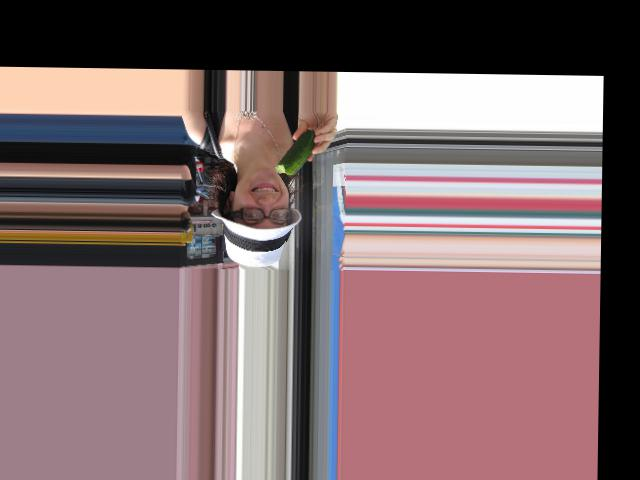cucumber: (276, 129, 317, 175)
